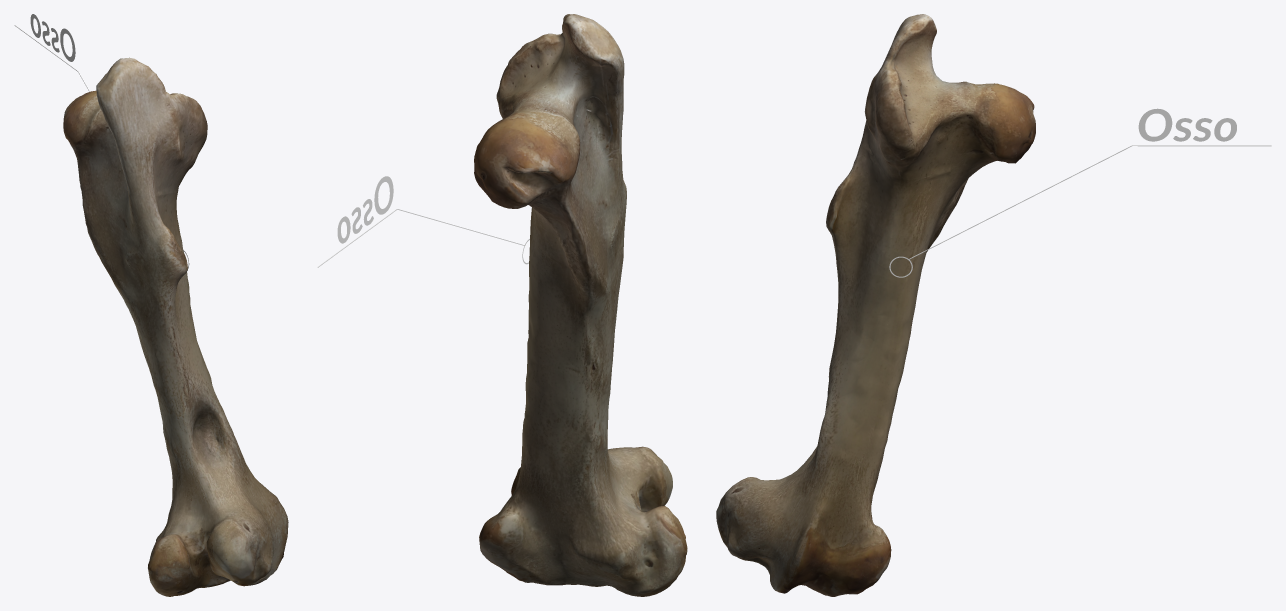
File: Femur-editado_modelo1.3.glb
3 renders of one model, left to right at view 1: azimuth 30°, elevation 25°; view 2: azimuth 150°, elevation 25°; view 3: azimuth 270°, elevation 25°, orthographic. The views are drawn at different scales.
Parts seen in each view (by area): view 1: Mesh_0, Texto; view 2: Mesh_0, Texto; view 3: Mesh_0, Texto, Círculo.
Boxes of the visible parts, x1=… form: Mesh_0: x1=63, y1=57, x2=288, y2=596; Texto: x1=30, y1=14, x2=75, y2=61; Mesh_0: x1=474, y1=14, x2=687, y2=596; Texto: x1=337, y1=176, x2=393, y2=243; Mesh_0: x1=716, y1=14, x2=1035, y2=596; Texto: x1=1138, y1=108, x2=1236, y2=141; Círculo: x1=889, y1=145, x2=1271, y2=277.
Size of the model in its own units: 0.5465 by 1.88 by 1.73.
Materials: 2 (1 with a texture image).
